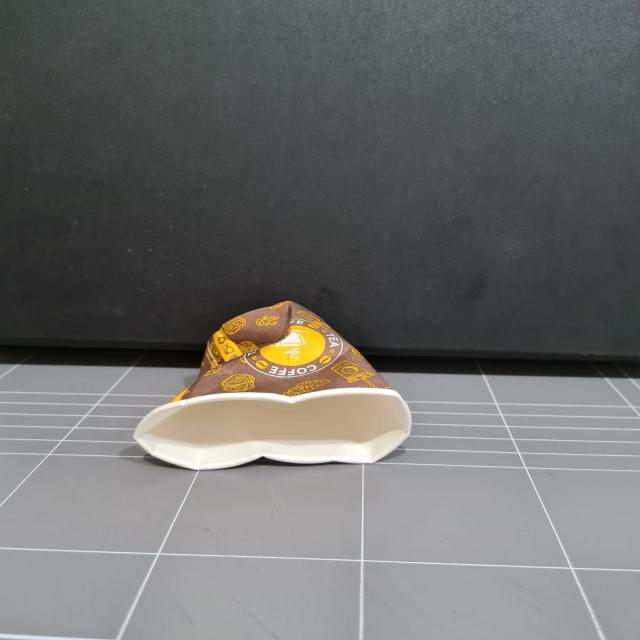cups: (146, 301, 412, 468)
